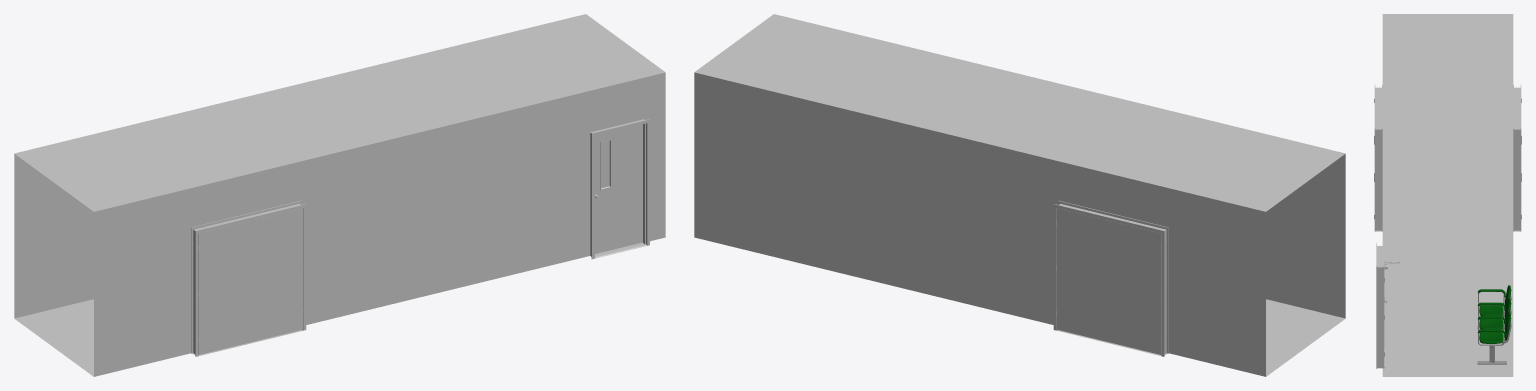
The model's file is Hall.004.fbx.
The picture shows the model from 3 angles, left to right: view 1: azimuth 30°, elevation 25°; view 2: azimuth 150°, elevation 25°; view 3: azimuth 270°, elevation 25°; orthographic projection. The views are drawn at different scales.
Visible parts, largest first — view 1: Hall.004; view 2: Hall.004; view 3: Hall.004.
Boxes of the visible parts, left/top/right/bottom form: Hall.004: left=14, top=14, right=665, bottom=376; Hall.004: left=694, top=14, right=1345, bottom=376; Hall.004: left=1374, top=14, right=1521, bottom=376.
Bounding box in the file's own units: 1000 × 276 × 274.
